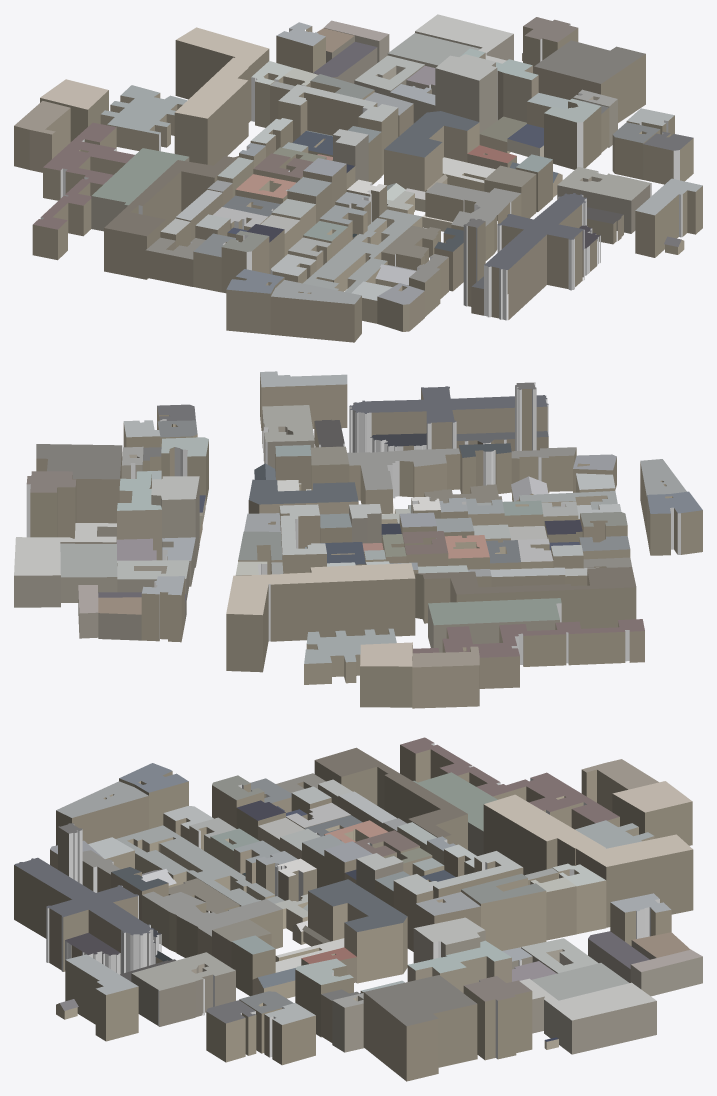
The picture shows the model from 3 angles, top to bottom: view 1: azimuth 30°, elevation 25°; view 2: azimuth 150°, elevation 25°; view 3: azimuth 270°, elevation 25°; orthographic projection. The views are drawn at different scales.
Parts seen in each view (by area): view 1: tuile; view 2: tuile; view 3: tuile.
Boxes of the visible parts, left/top/right/bottom form: tuile: left=14, top=14, right=702, bottom=342; tuile: left=14, top=371, right=702, bottom=708; tuile: left=14, top=737, right=702, bottom=1081.
Bounding box in the file's own units: 314 × 42.7 × 285.
